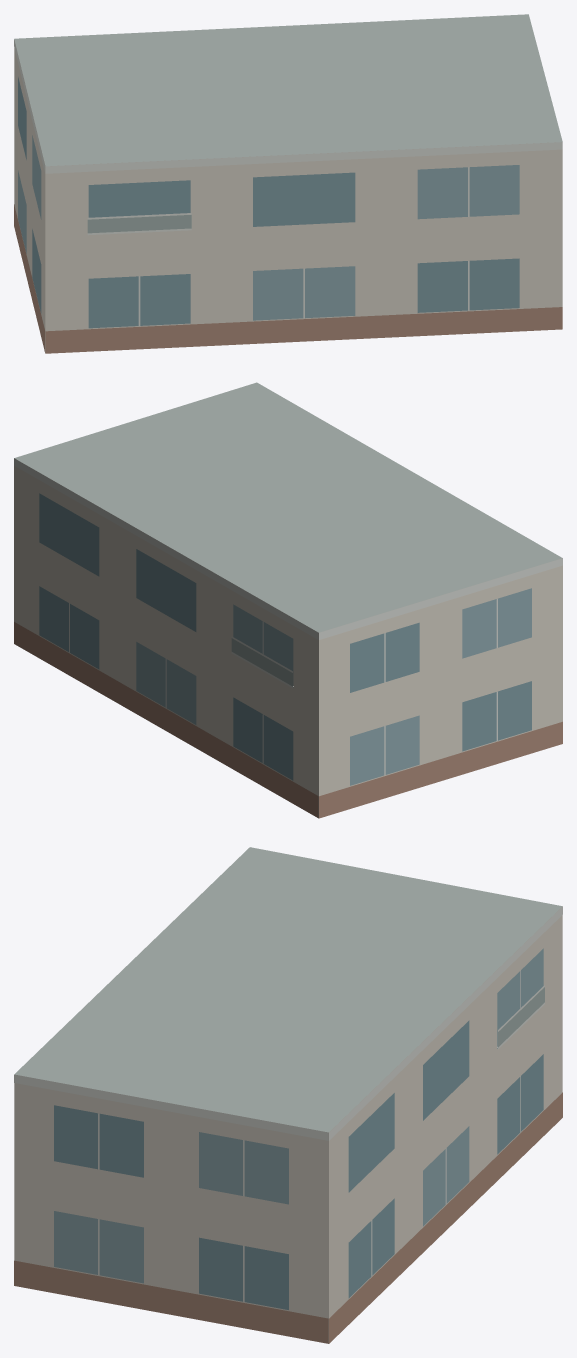
Rendered from survey-upis-32882018.glb.
The picture shows the model from 3 angles, top to bottom: view 1: azimuth 30°, elevation 25°; view 2: azimuth 150°, elevation 25°; view 3: azimuth 270°, elevation 25°; orthographic projection. The views are drawn at different scales.
Parts seen in each view (by area): view 1: survey-upis-32882018.tmp; view 2: survey-upis-32882018.tmp; view 3: survey-upis-32882018.tmp.
Boxes of the visible parts, x1,y1,x2,y2 form: survey-upis-32882018.tmp: (14, 14, 562, 353); survey-upis-32882018.tmp: (14, 382, 562, 818); survey-upis-32882018.tmp: (14, 847, 562, 1343).
Size of the model in its own units: 17.68 by 6.1 by 14.36.
